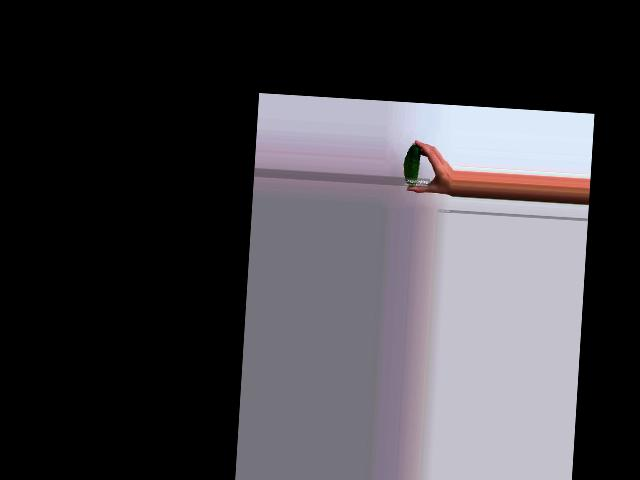cucumber: (401, 144, 420, 187)
